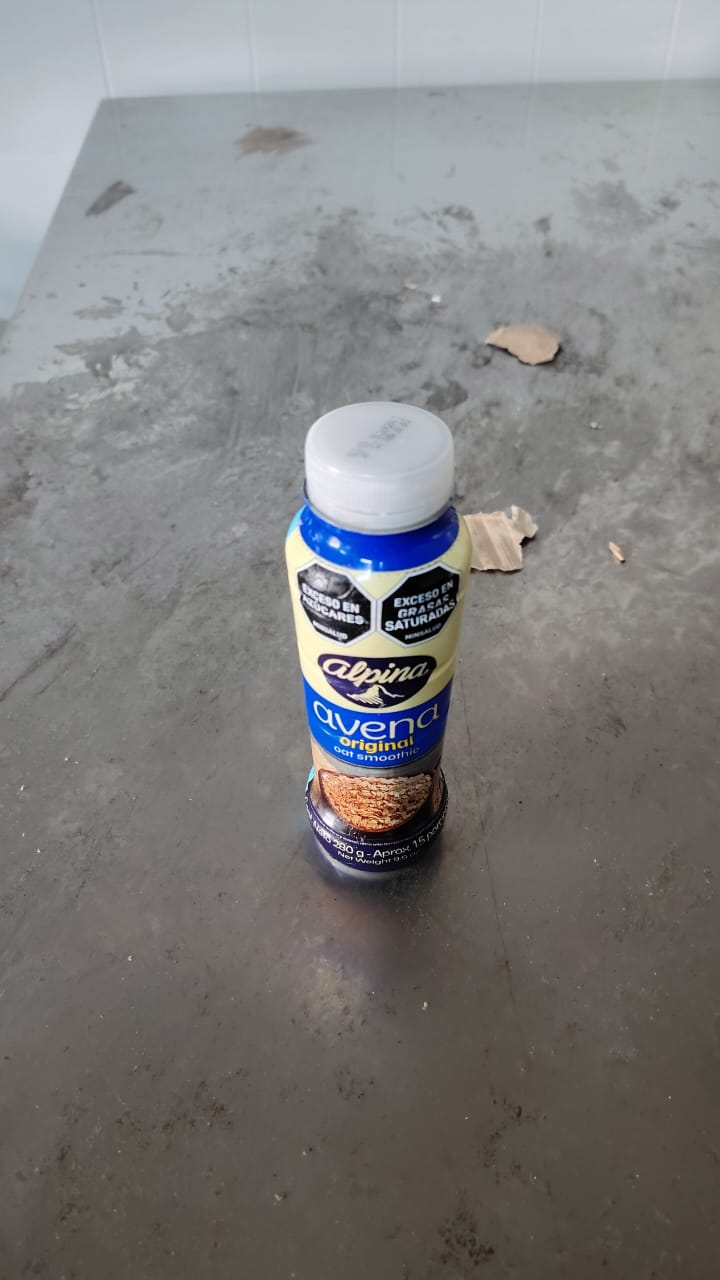Plastico: (284, 402, 466, 875)
